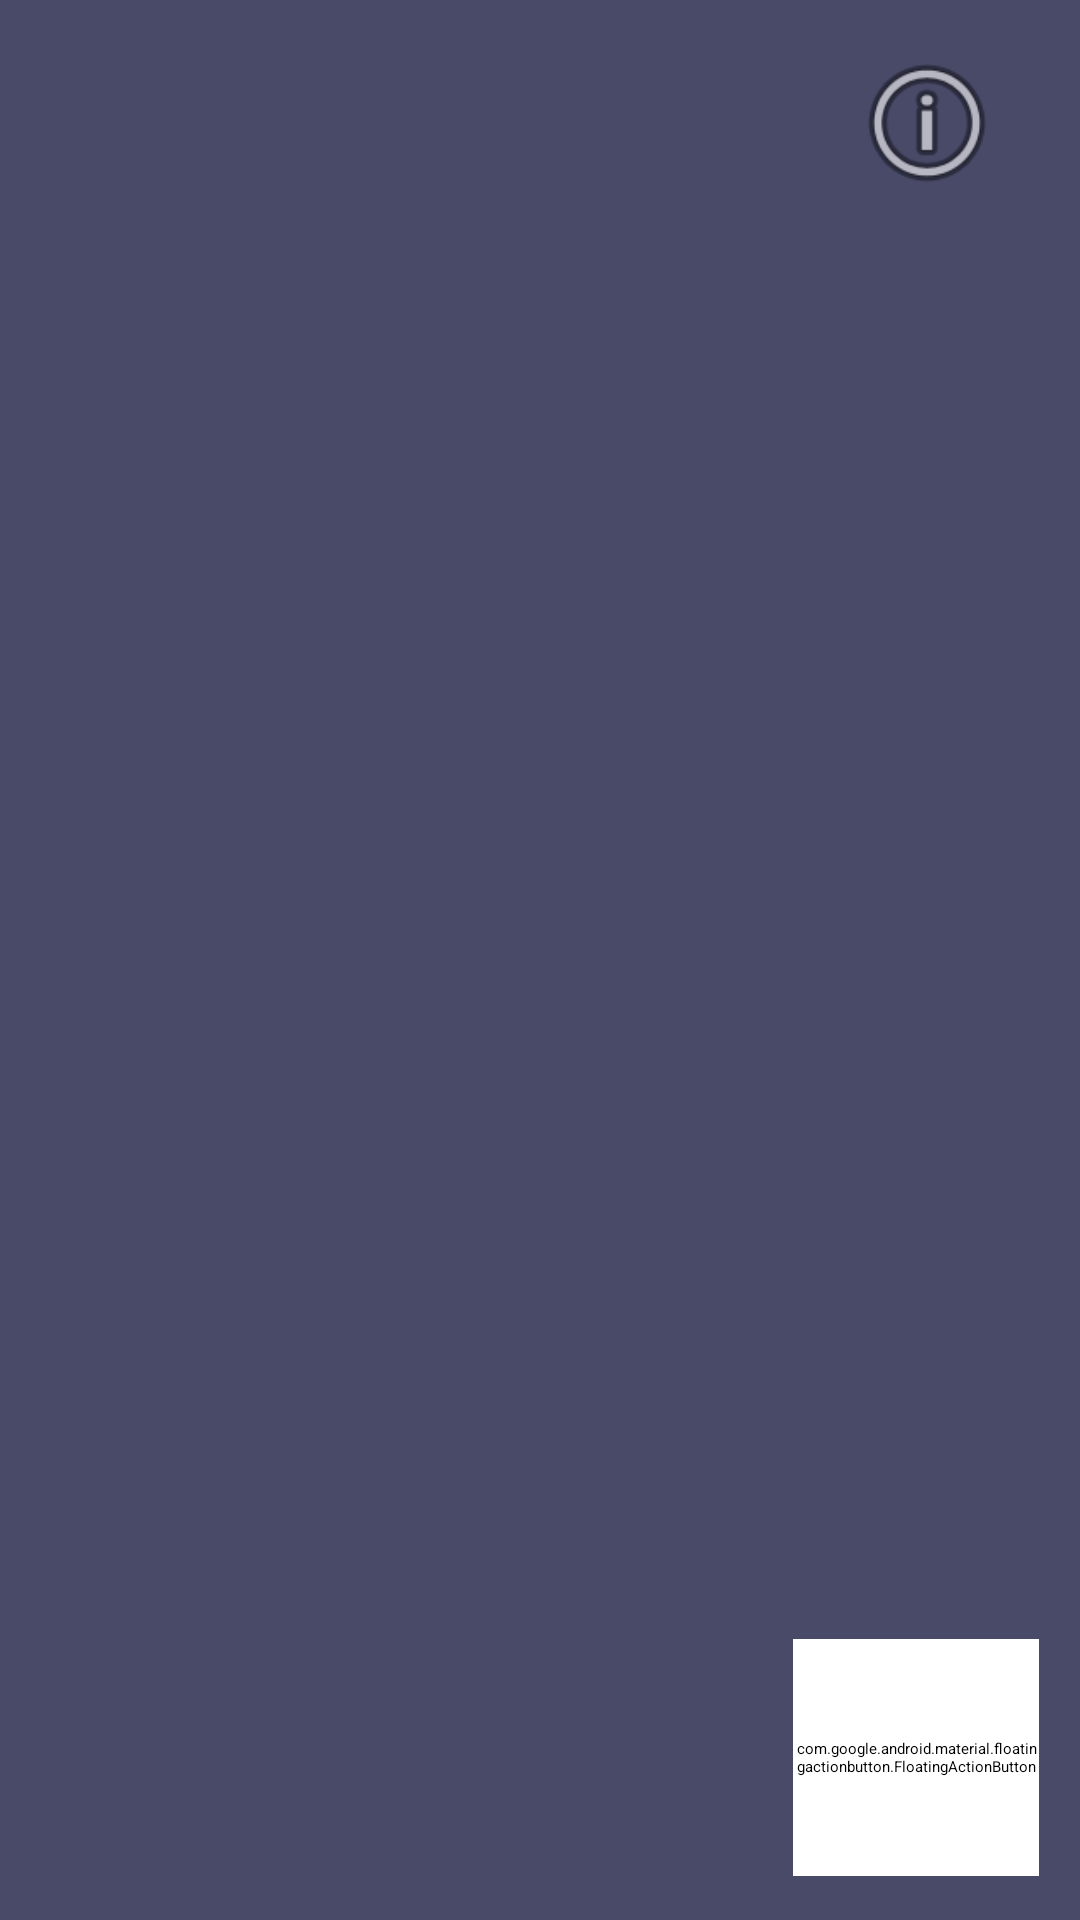

Screen size 1080×1920. Icon name, then its box in pixels as (x1, y1, x2, y2):
info details: (869, 66, 985, 181)
